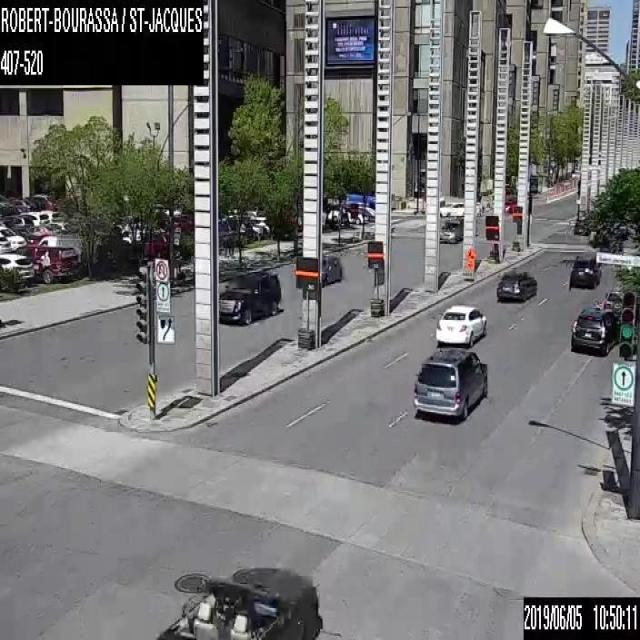construction: (464, 245, 474, 279)
vehicle: (154, 565, 322, 639), (412, 348, 487, 423), (215, 270, 281, 326), (568, 302, 620, 356), (12, 244, 78, 282), (435, 304, 487, 346), (495, 266, 537, 302), (567, 249, 602, 288), (0, 252, 33, 284), (319, 251, 342, 288), (327, 204, 366, 223), (437, 218, 464, 241), (0, 226, 26, 248), (21, 210, 50, 229), (2, 213, 32, 230), (439, 202, 463, 216), (40, 208, 60, 223), (0, 232, 10, 252)
